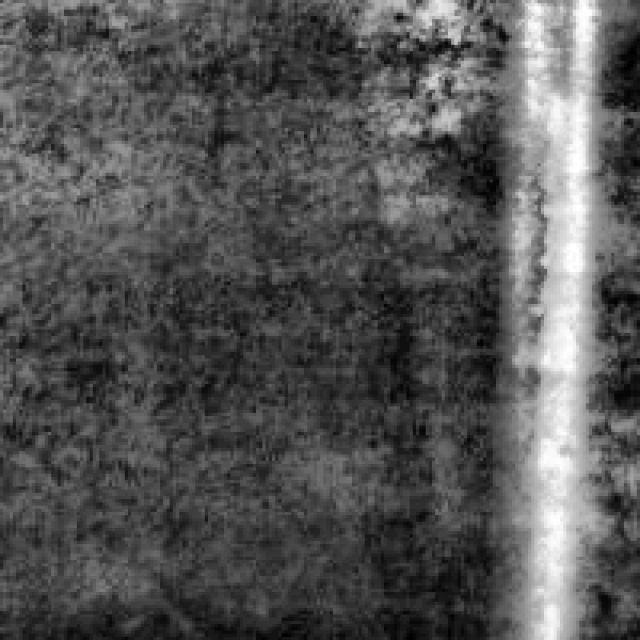Inclusion: (496, 0, 595, 634)
